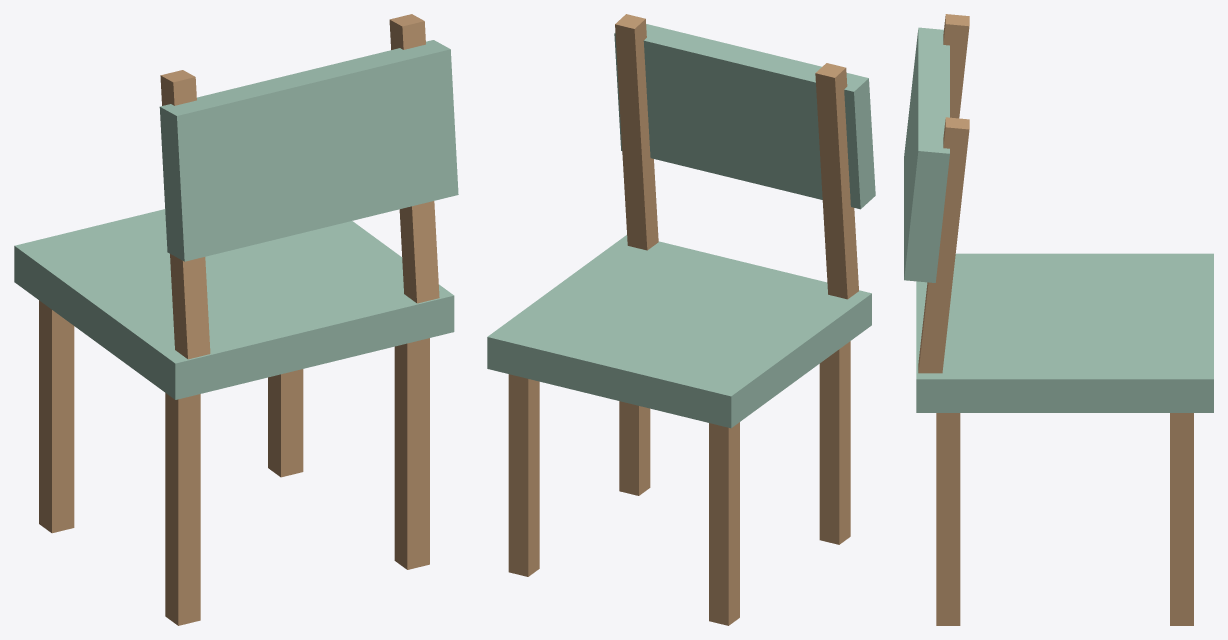
Rendered from studio-chair.glb.
3 renders of one model, left to right at view 1: azimuth 30°, elevation 25°; view 2: azimuth 150°, elevation 25°; view 3: azimuth 270°, elevation 25°, orthographic. The views are drawn at different scales.
Parts seen in each view (by area): view 1: studio-chair; view 2: studio-chair; view 3: studio-chair.
Boxes of the visible parts, x1,y1,x2,y2 form: studio-chair: [14, 14, 458, 625]; studio-chair: [487, 14, 875, 625]; studio-chair: [904, 14, 1213, 625].
Bounding box in the file's own units: 0.56 × 1.04 × 0.5833.
